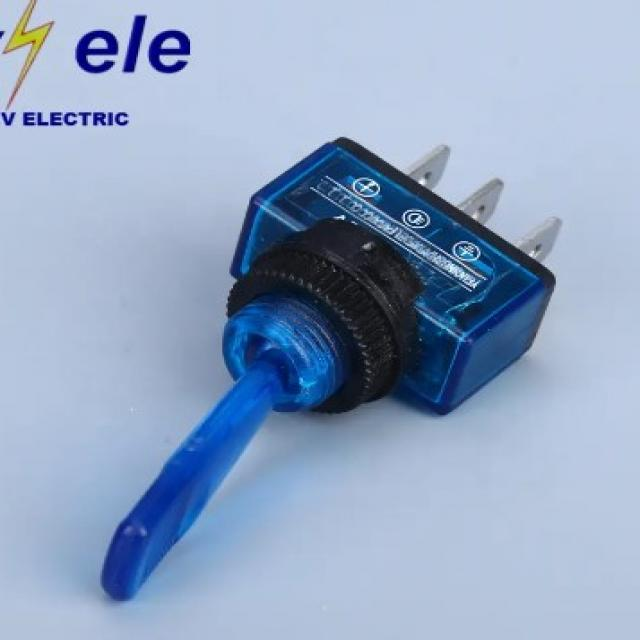toggle switch: (97, 248, 398, 601)
